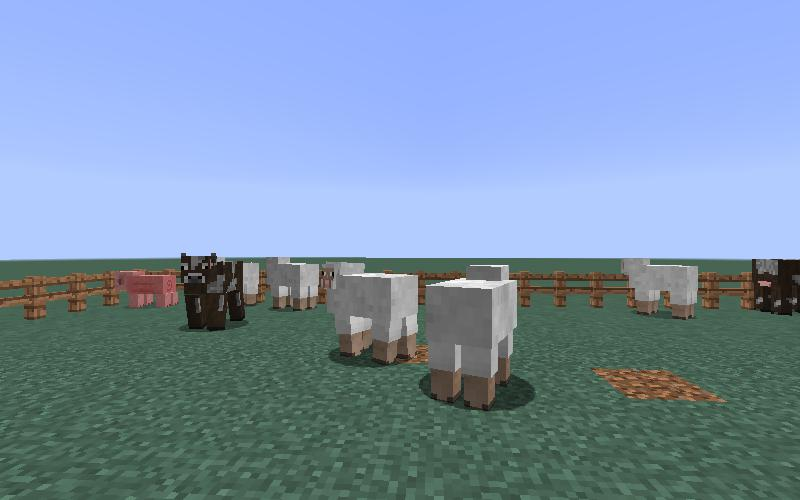cow: (177, 250, 248, 336), (751, 256, 800, 317)
pig: (115, 267, 178, 313)
sheep: (423, 256, 521, 413), (319, 256, 423, 374), (617, 250, 703, 327), (261, 253, 322, 313)
